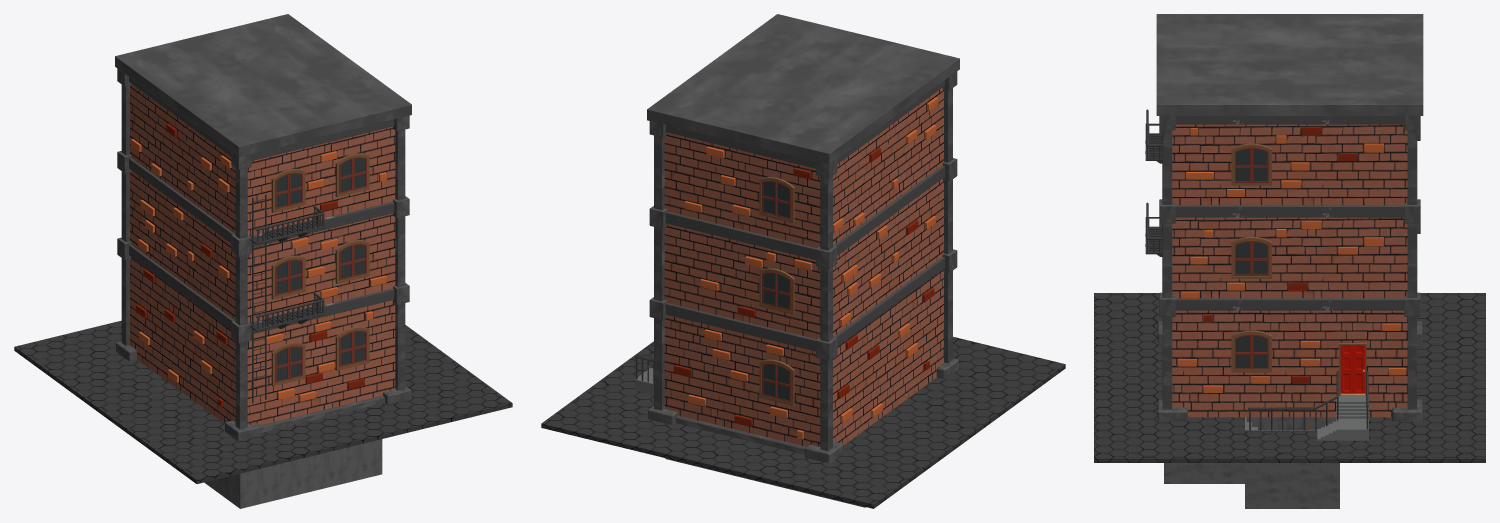
Rendered from SmallApartmentBlock.fbx.
3 renders of one model, left to right at view 1: azimuth 30°, elevation 25°; view 2: azimuth 150°, elevation 25°; view 3: azimuth 270°, elevation 25°, orthographic. The views are drawn at different scales.
Visible parts, largest first — view 1: Walls.002, PostsandRoof, Groumd, Basement, Bricks, FireEscape; view 2: Walls.002, PostsandRoof, Groumd, Bricks; view 3: Walls.002, PostsandRoof, Groumd, Basement, Bricks, Outsidestairs, FireEscape, Door.003, Window.003, Window.002, Window.034, Window.035 (+5 smaller).
Boxes of the visible parts, x1,y1,x2,y2 form: Walls.002: (130,84,395,425); PostsandRoof: (115,14,411,440); Groumd: (14,320,512,483); Basement: (204,439,382,508); Bricks: (131,123,386,407); FireEscape: (250,194,325,403); Walls.002: (664,87,943,446); PostsandRoof: (647,14,959,463); Groumd: (541,337,1065,508); Bricks: (673,97,938,439); Walls.002: (1172,124,1407,417); PostsandRoof: (1156,14,1423,421); Groumd: (1094,293,1485,462); Basement: (1164,421,1339,508); Bricks: (1177,127,1406,392); Outsidestairs: (1245,371,1368,440); FireEscape: (1145,109,1162,292); Door.003: (1340,345,1365,393); Window.003: (1251,334,1268,369); Window.002: (1234,334,1251,369); Window.034: (1251,147,1268,182); Window.035: (1234,147,1251,182).
Bounding box in the file's own units: 16 × 17.71 × 16.
